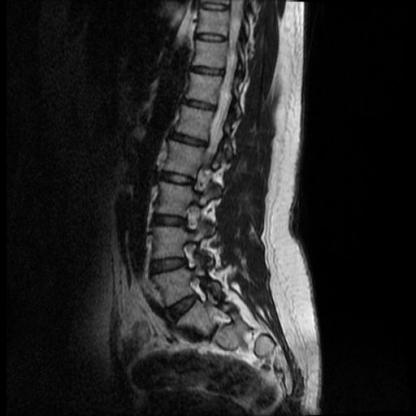Annular Disc Relaxationrotation: (165, 298, 201, 318), (208, 322, 221, 345)
Degenerative Disc Diseaserotation: (165, 298, 201, 318), (159, 171, 196, 188), (208, 321, 219, 344)
Disc Bulgerotation: (159, 171, 196, 188)
